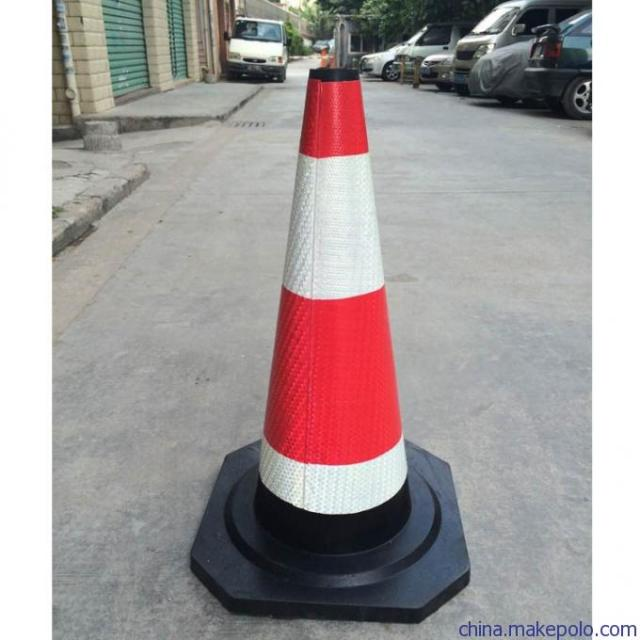car: (225, 15, 290, 79), (417, 46, 455, 88), (362, 40, 399, 79)
reflective_cone: (191, 66, 478, 617)
